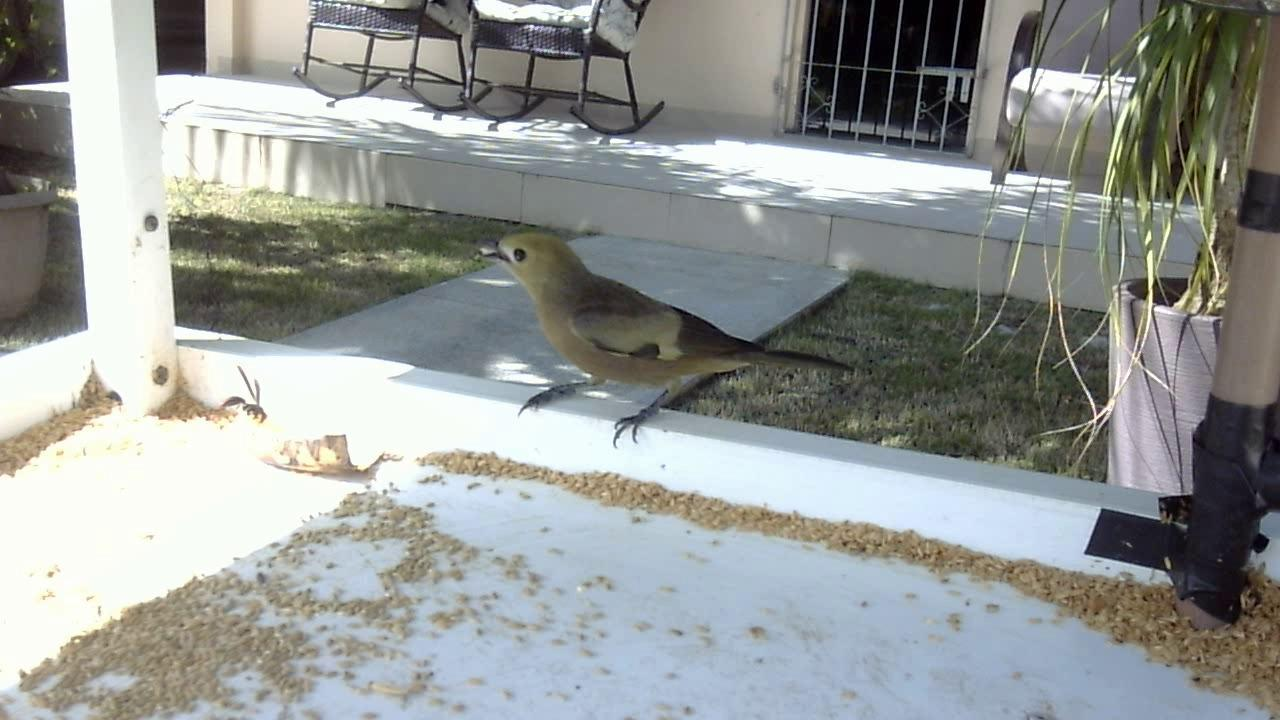sanhaco_do_coqueiro: (482, 234, 857, 445)
